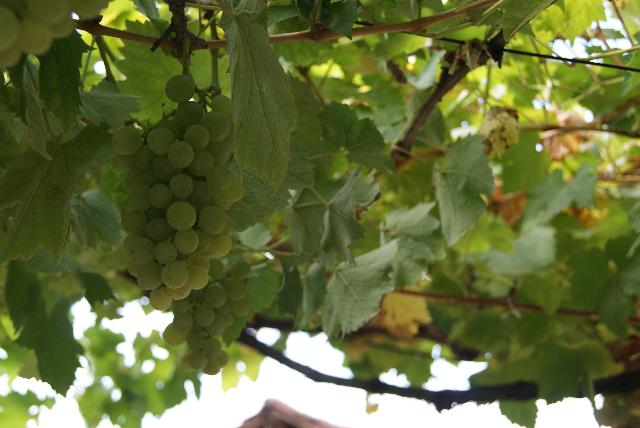grapes: (112, 75, 244, 310), (162, 261, 250, 375)
